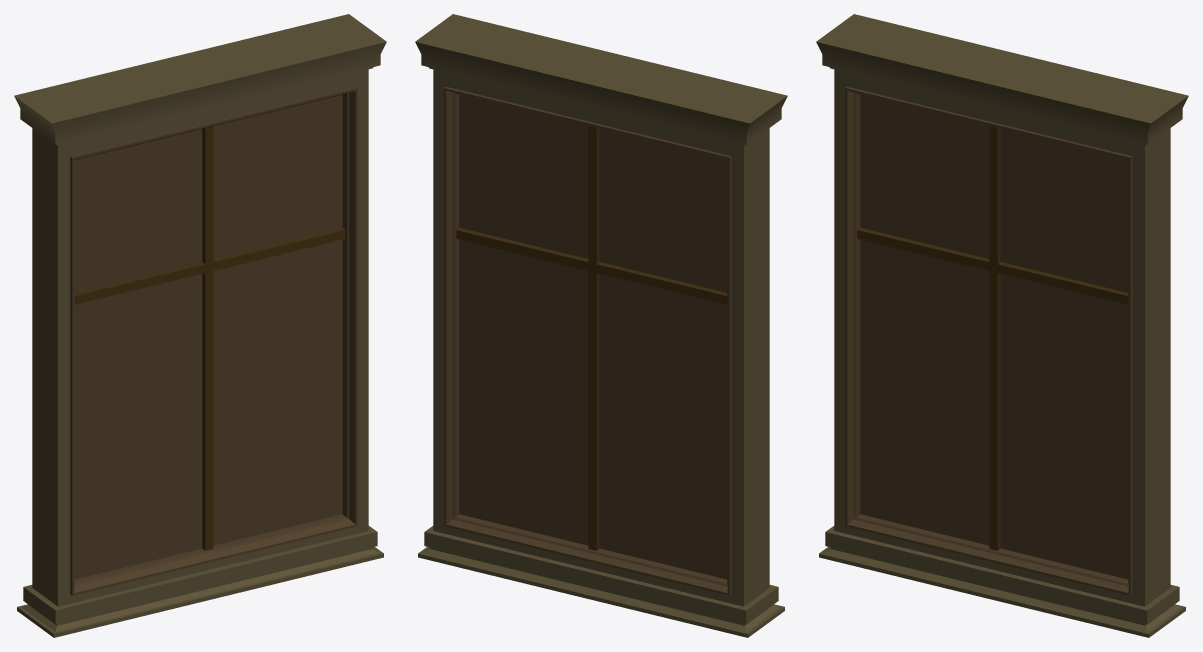
File: Janela.fbx
3 views of the same model, side by side, from view 1: azimuth 30°, elevation 25°; view 2: azimuth 150°, elevation 25°; view 3: azimuth 330°, elevation 25° (orthographic).
Parts seen in each view (by area): view 1: MD_Janela_01; view 2: MD_Janela_01; view 3: MD_Janela_01.
Boxes of the visible parts, x1,y1,x2,y2 form: MD_Janela_01: [14, 14, 386, 637]; MD_Janela_01: [415, 14, 787, 637]; MD_Janela_01: [816, 14, 1188, 637].
Size of the model in its own units: 106 by 155 by 20.78.
